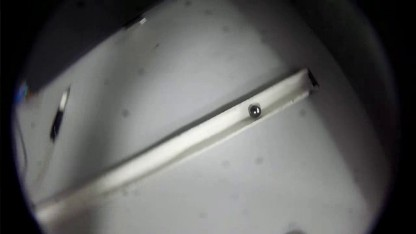gangzhu: (247, 104, 262, 118)
